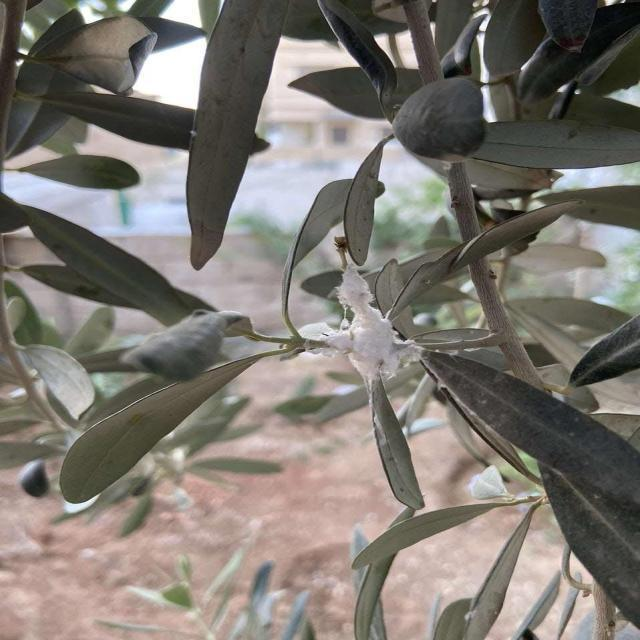Psyllid: (298, 262, 418, 400)
